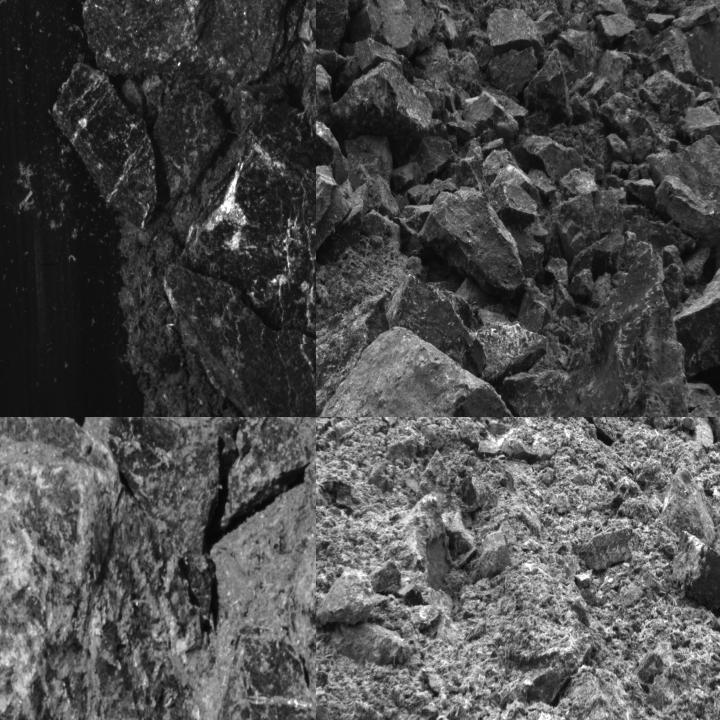stone: (0, 417, 190, 719), (172, 134, 315, 403), (502, 246, 718, 416), (161, 263, 315, 416), (316, 340, 551, 416), (52, 63, 156, 226), (390, 277, 546, 384), (323, 55, 462, 163), (82, 0, 239, 76), (197, 623, 315, 719), (420, 188, 524, 296), (154, 75, 226, 203), (316, 297, 387, 416), (651, 460, 715, 557), (675, 262, 719, 381), (650, 142, 719, 215), (561, 660, 640, 719), (316, 565, 387, 630), (523, 52, 572, 136), (568, 226, 646, 278), (670, 530, 719, 610), (676, 0, 719, 90), (671, 530, 719, 610), (316, 164, 354, 264), (639, 26, 699, 85), (552, 189, 600, 260), (655, 179, 712, 238), (638, 70, 700, 121), (523, 136, 583, 184), (487, 8, 545, 56), (486, 44, 536, 98), (463, 91, 518, 140), (440, 136, 487, 193), (580, 525, 635, 572), (373, 0, 419, 56), (484, 182, 538, 228), (344, 140, 391, 191), (353, 38, 414, 76), (316, 0, 355, 50), (677, 100, 719, 144), (595, 188, 630, 234), (456, 473, 490, 514), (519, 286, 549, 332), (594, 13, 637, 45), (671, 5, 719, 32), (558, 169, 597, 196), (316, 66, 333, 127), (625, 176, 655, 210), (527, 166, 557, 200), (587, 272, 610, 308), (605, 132, 631, 163), (545, 256, 570, 288), (568, 270, 594, 298), (554, 283, 576, 316), (645, 12, 673, 32)
